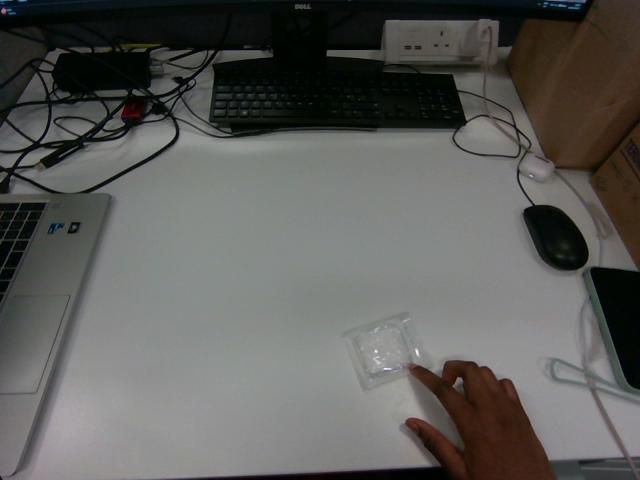gauze: (343, 314, 429, 389)
